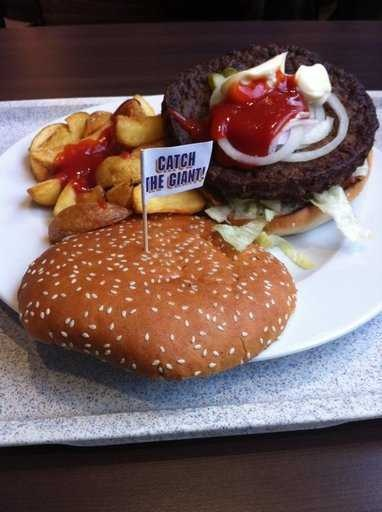hamburger: (18, 34, 364, 370)
